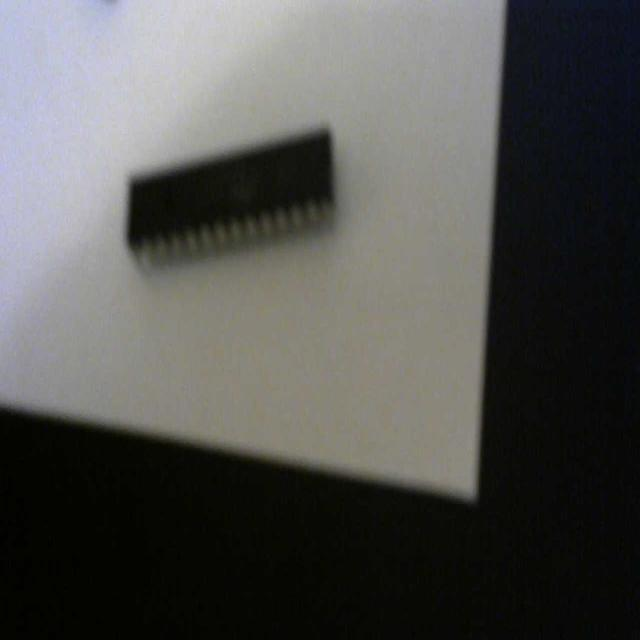atmega: (119, 120, 346, 277)
